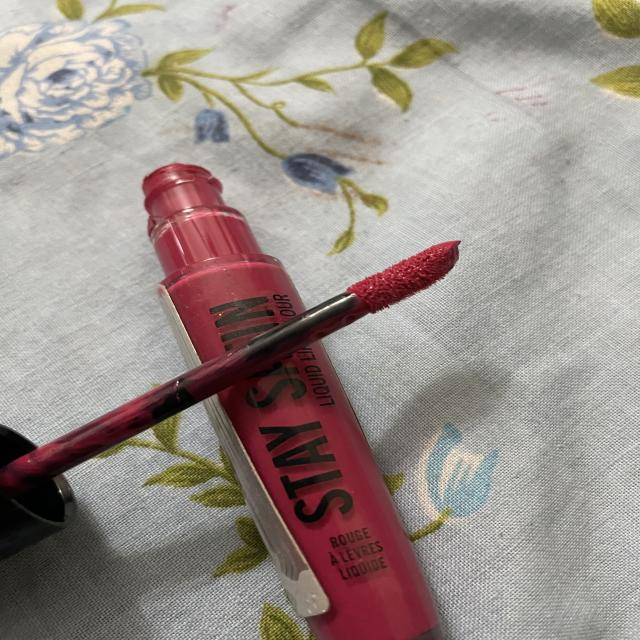lip gloss: (0, 145, 546, 640), (310, 209, 488, 325)
